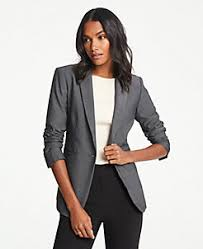F_W_suit jacket: (45, 61, 166, 217)
